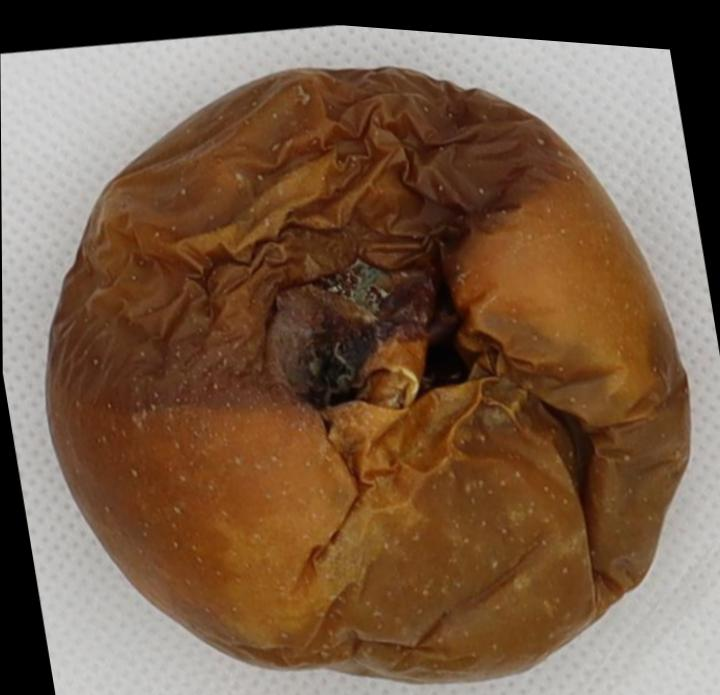apple: (45, 68, 688, 682)
rot_mold_decay: (45, 68, 689, 682)
